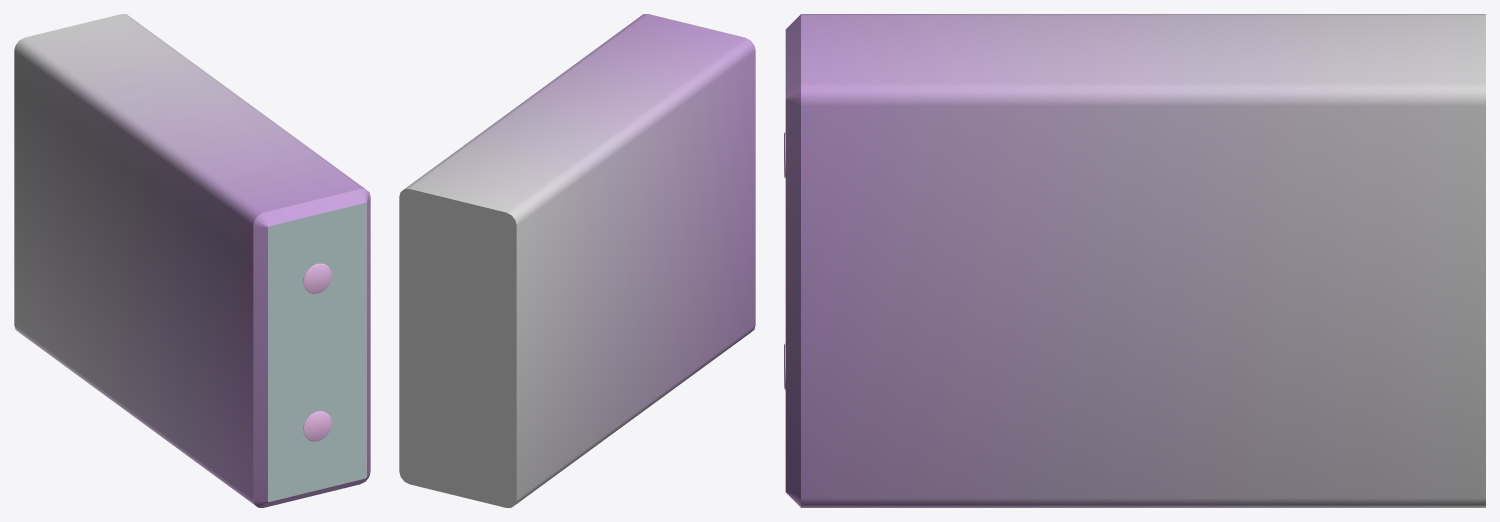
Rendered from Kit_Lock_Deadbolt.fbx.
3 views of the same model, side by side, from view 1: azimuth 30°, elevation 25°; view 2: azimuth 150°, elevation 25°; view 3: azimuth 270°, elevation 25° (orthographic). The views are drawn at different scales.
Parts seen in each view (by area): view 1: Kit_Lock_Deadbolt_LOD0; view 2: Kit_Lock_Deadbolt_LOD0; view 3: Kit_Lock_Deadbolt_LOD0.
Part boxes in pixels (<box>): Kit_Lock_Deadbolt_LOD0: <box>14,14,370,507</box>; Kit_Lock_Deadbolt_LOD0: <box>399,14,755,507</box>; Kit_Lock_Deadbolt_LOD0: <box>784,14,1485,507</box>.
Size of what is drawn, in the model's own units: 0.0125 by 0.03 by 0.0451.
